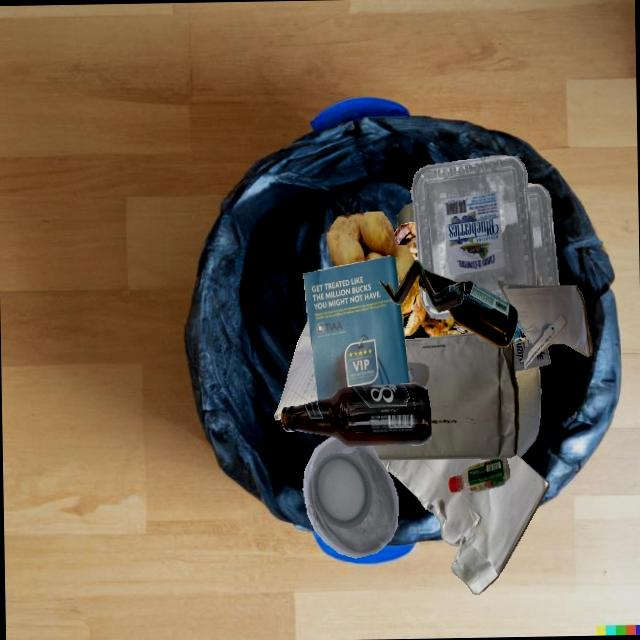biowaste: (325, 211, 414, 285), (415, 225, 472, 333), (400, 275, 468, 337), (393, 221, 416, 260)
cardboard: (379, 259, 464, 312), (514, 366, 541, 457)
glass: (280, 383, 431, 446), (447, 295, 518, 346)
paper: (379, 454, 548, 594), (370, 331, 518, 459), (302, 255, 409, 400), (497, 280, 592, 368), (273, 319, 317, 419), (396, 202, 414, 228)
plastic: (410, 155, 536, 285), (302, 437, 398, 558), (461, 285, 542, 327), (530, 184, 559, 286), (448, 457, 509, 493), (512, 339, 550, 371)
